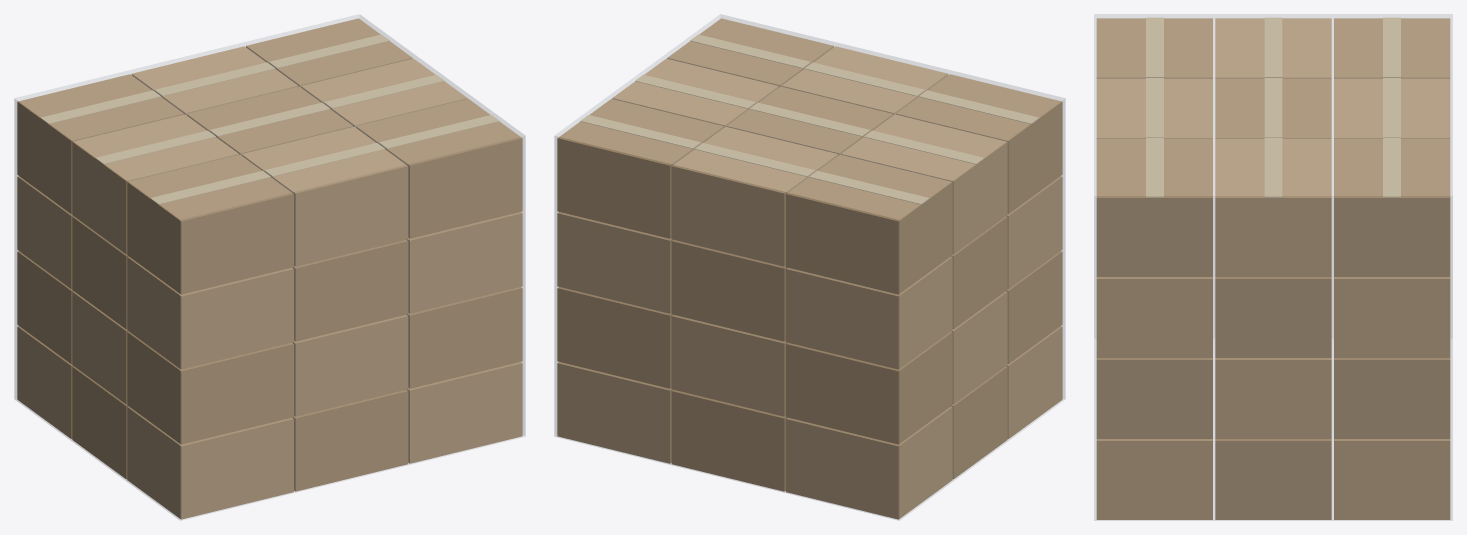
Rendered from load-iso1200x1000-wrapped-cartons.glb.
The picture shows the model from 3 angles, left to right: view 1: azimuth 30°, elevation 25°; view 2: azimuth 150°, elevation 25°; view 3: azimuth 270°, elevation 25°; orthographic projection. The views are drawn at different scales.
Visible parts, largest first — view 1: load-wrapped-cartons; view 2: load-wrapped-cartons; view 3: load-wrapped-cartons.
Boxes of the visible parts, bbox=[...] form: load-wrapped-cartons: bbox=[14, 14, 525, 520]; load-wrapped-cartons: bbox=[554, 14, 1065, 520]; load-wrapped-cartons: bbox=[1094, 14, 1452, 520].
Bounding box in the file's own units: 1.2 × 1 × 1.
